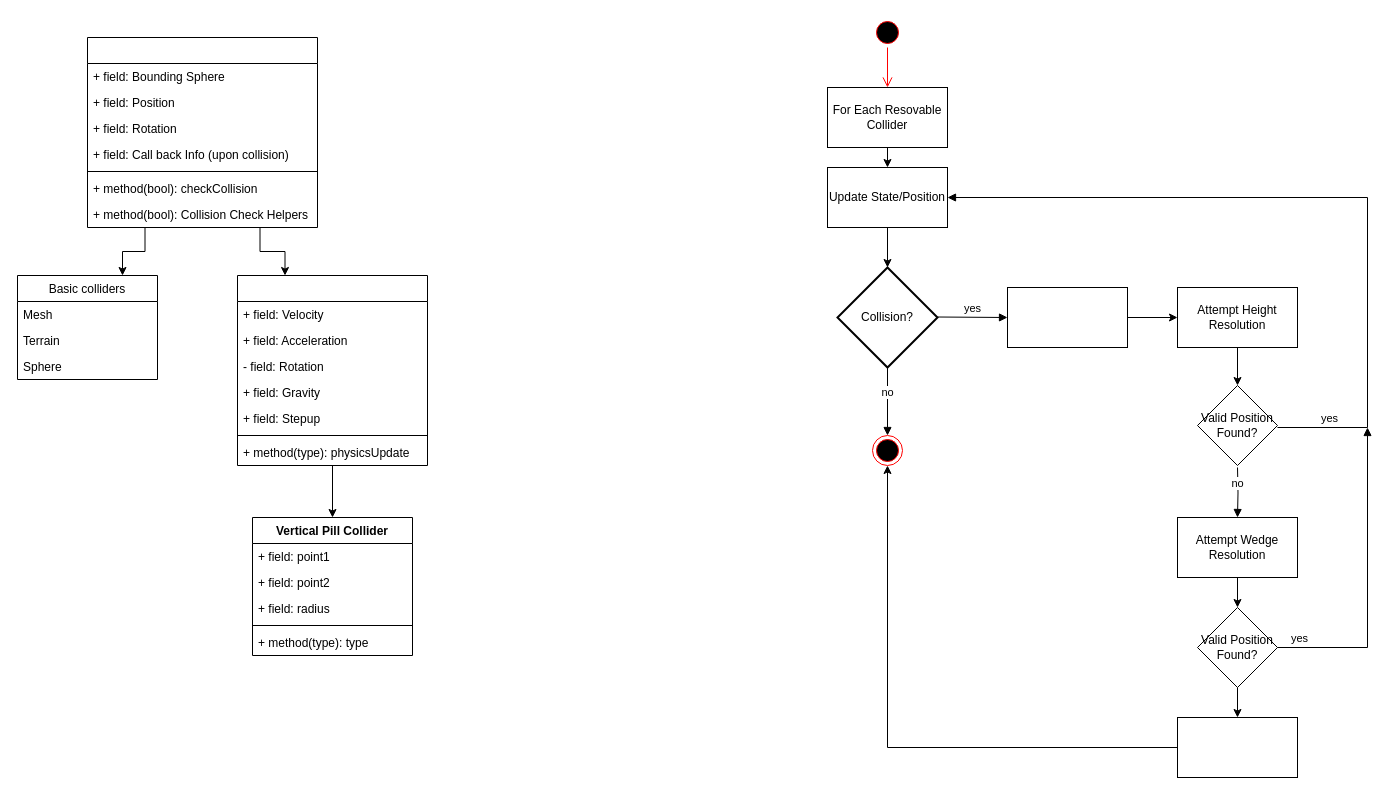
Image size: 1393x795. Some labels were removed from this diagram. The shapes that lost their labels are listed below. From the top down, each one's box as (x1, y1, x2, y2) in pixels, then its label:
(86, 36, 318, 228): Collider
(1006, 286, 1128, 348): Notify Self and Other object
(236, 274, 428, 466): ResolvableCollider
(1176, 716, 1298, 778): No position Change
